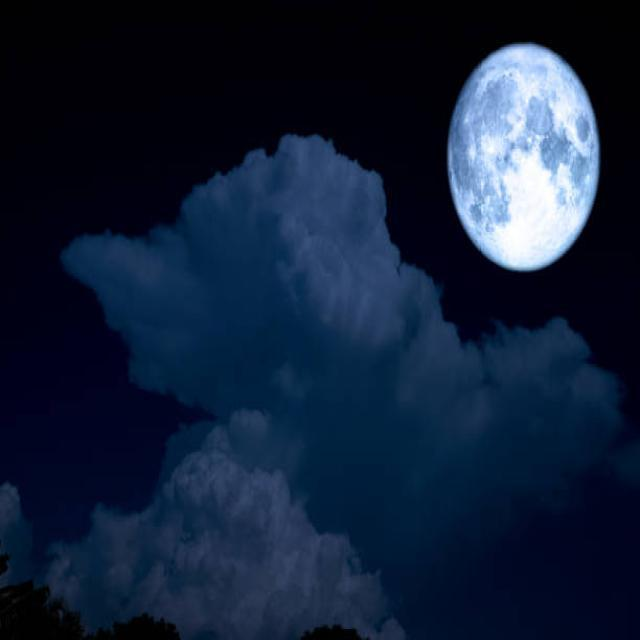moon: (438, 34, 600, 274)
